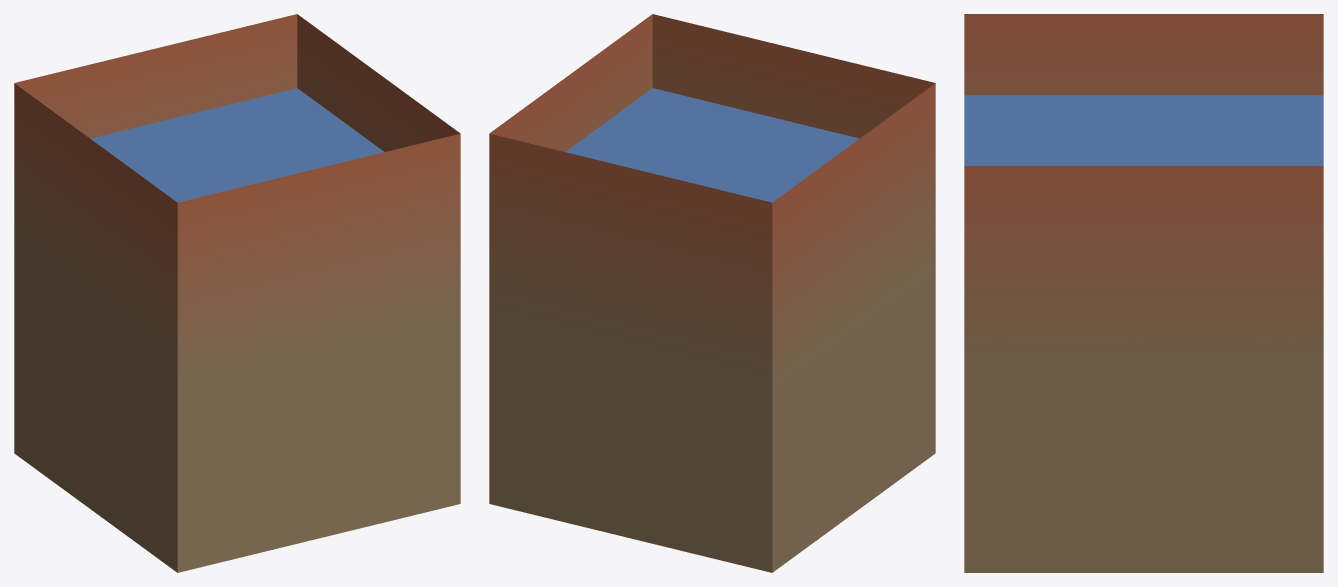
File: cup_blue.obj
3 views of the same model, side by side, from view 1: azimuth 30°, elevation 25°; view 2: azimuth 150°, elevation 25°; view 3: azimuth 270°, elevation 25° (orthographic). The views are drawn at different scales.
Visible parts, largest first — view 1: Default; view 2: Default; view 3: Default.
Part boxes in pixels (x1=…): Default: x1=14, y1=14, x2=460, y2=572; Default: x1=489, y1=14, x2=935, y2=572; Default: x1=964, y1=14, x2=1323, y2=572.
Size of the model in its own units: 0.1 by 0.125 by 0.1.
